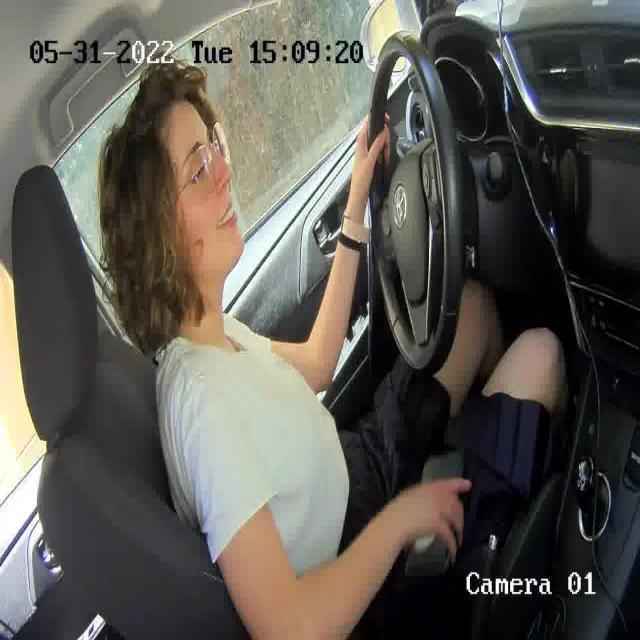Eye-Close: (186, 161, 211, 183)
Inattentive: (100, 76, 247, 274)
Normal: (214, 202, 239, 231)
